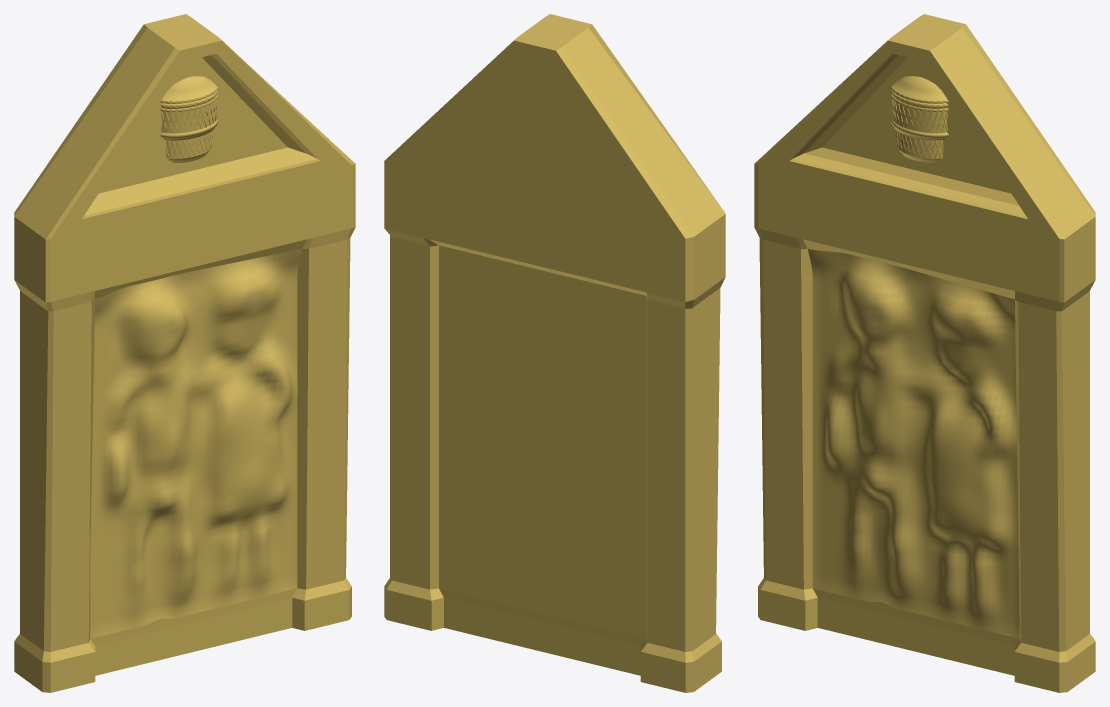
File: 2son.fbx
3 views of the same model, side by side, from view 1: azimuth 30°, elevation 25°; view 2: azimuth 150°, elevation 25°; view 3: azimuth 330°, elevation 25° (orthographic).
Parts seen in each view (by area): view 1: 2fin; view 2: 2fin; view 3: 2fin.
Boxes of the visible parts, left/top/right/bottom form: 2fin: left=14, top=14, right=355, bottom=692; 2fin: left=384, top=14, right=725, bottom=692; 2fin: left=754, top=14, right=1095, bottom=692.
Size of the model in its own units: 311 by 67.37 by 586.
